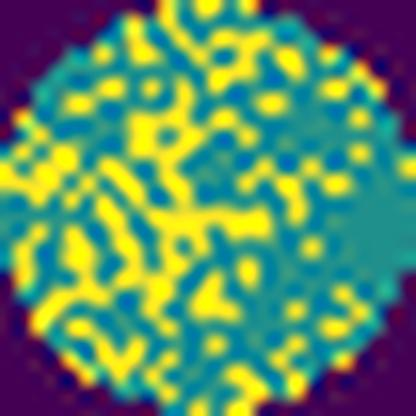Random: (0, 0, 376, 414)
